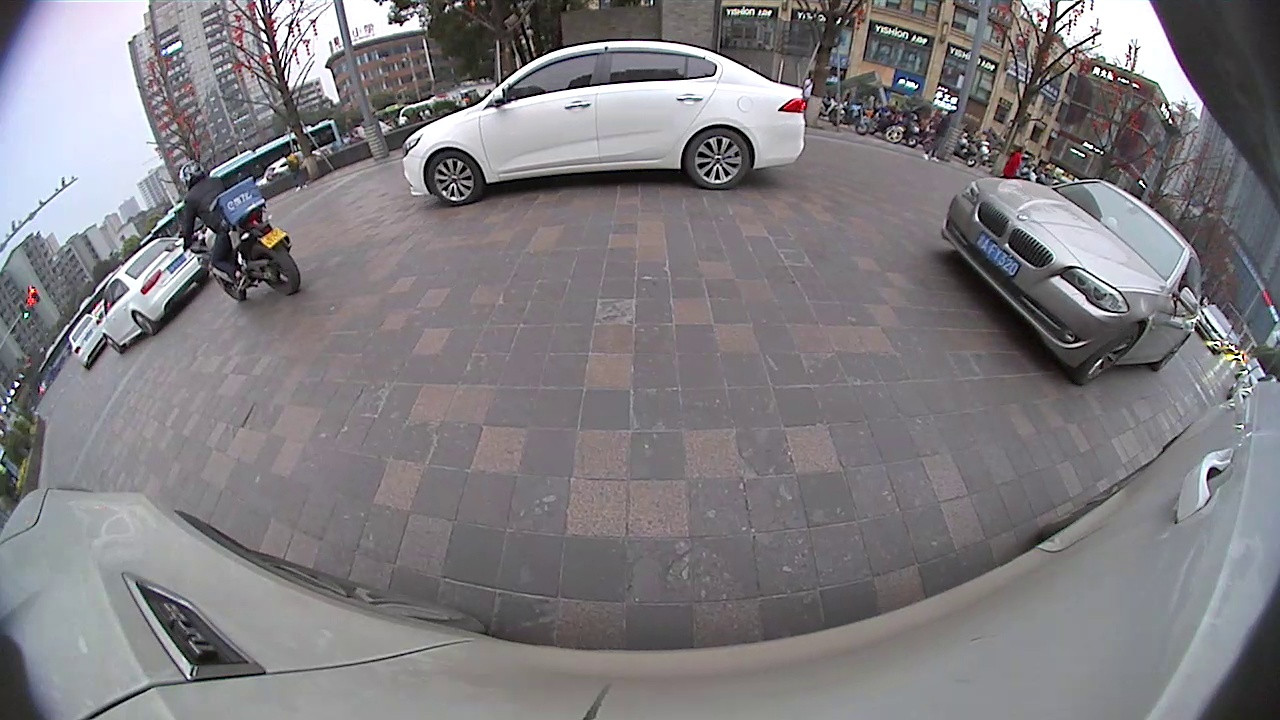car: (400, 38, 808, 206), (940, 176, 1203, 387), (97, 234, 210, 354), (67, 311, 107, 370)
front: (1072, 323, 1143, 393), (424, 147, 487, 210)
rear: (681, 125, 753, 193), (245, 235, 304, 299)
rider: (177, 157, 302, 306)
